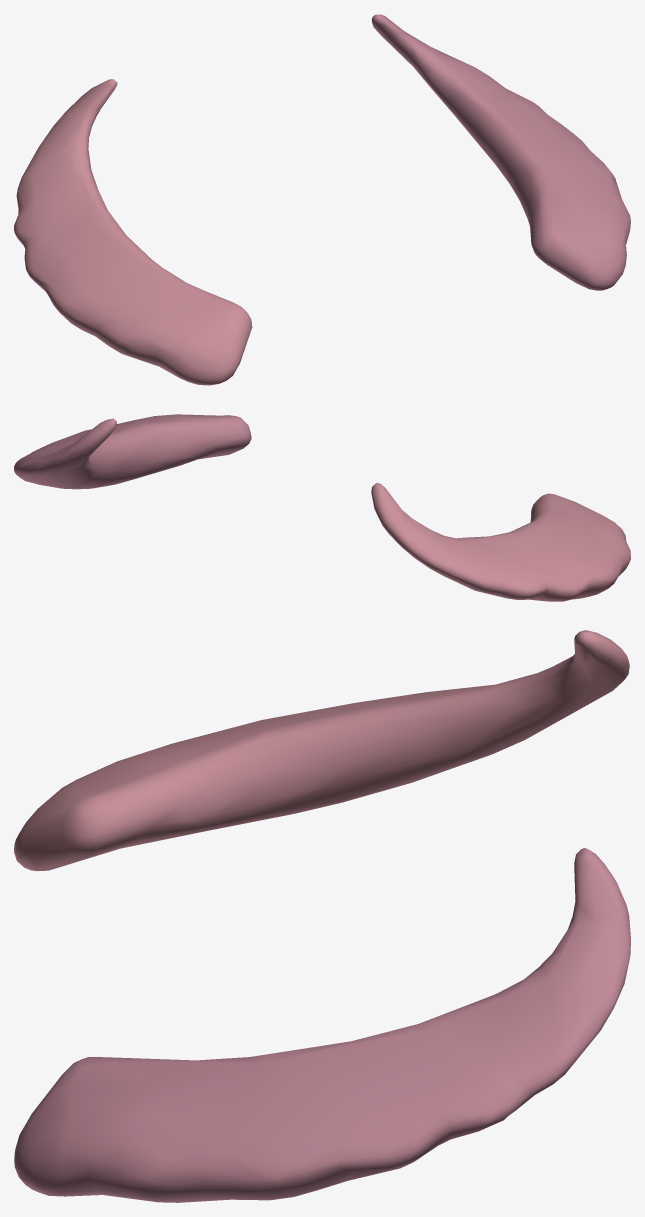
File: hippocampus.glb
The picture shows the model from 3 angles, top to bottom: view 1: azimuth 30°, elevation 25°; view 2: azimuth 150°, elevation 25°; view 3: azimuth 270°, elevation 25°; orthographic projection. The views are drawn at different scales.
Parts seen in each view (by area): view 1: FJ1807 Right hippocampus, FJ1759 Left hippocampus; view 2: FJ1807 Right hippocampus, FJ1759 Left hippocampus; view 3: FJ1759 Left hippocampus, FJ1807 Right hippocampus.
Boxes of the visible parts, left/top/right/bottom form: FJ1807 Right hippocampus: left=14, top=79, right=252, bottom=385; FJ1759 Left hippocampus: left=371, top=14, right=630, bottom=290; FJ1807 Right hippocampus: left=371, top=483, right=630, bottom=601; FJ1759 Left hippocampus: left=14, top=414, right=251, bottom=489; FJ1759 Left hippocampus: left=14, top=848, right=630, bottom=1202; FJ1807 Right hippocampus: left=14, top=630, right=629, bottom=871.
Bounding box in the file's own units: 0.0745 × 0.022 × 0.0429.
